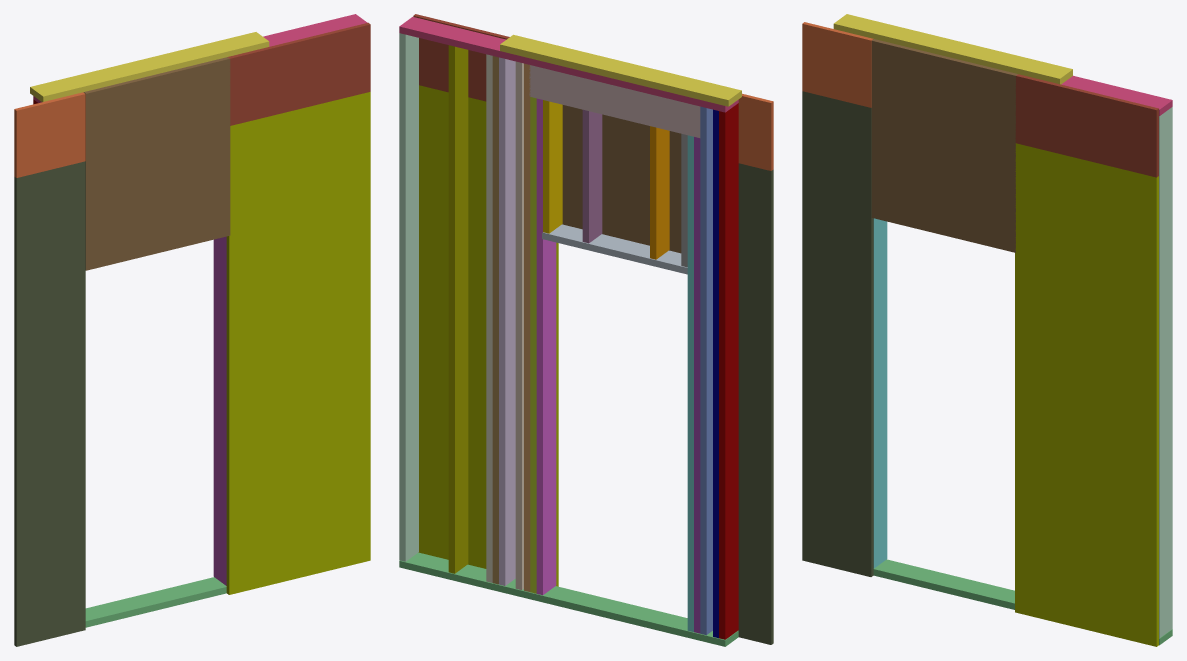
3 views of the same model, side by side, from view 1: azimuth 30°, elevation 25°; view 2: azimuth 150°, elevation 25°; view 3: azimuth 330°, elevation 25° (orthographic).
Visible parts, largest first — view 1: world; view 2: world; view 3: world.
Boxes of the visible parts, x1,y1,x2,y2 form: world: (14, 14, 370, 646); world: (399, 14, 773, 646); world: (802, 14, 1172, 646).
Bounding box in the file's own units: 85.5 × 125 × 6.5.
